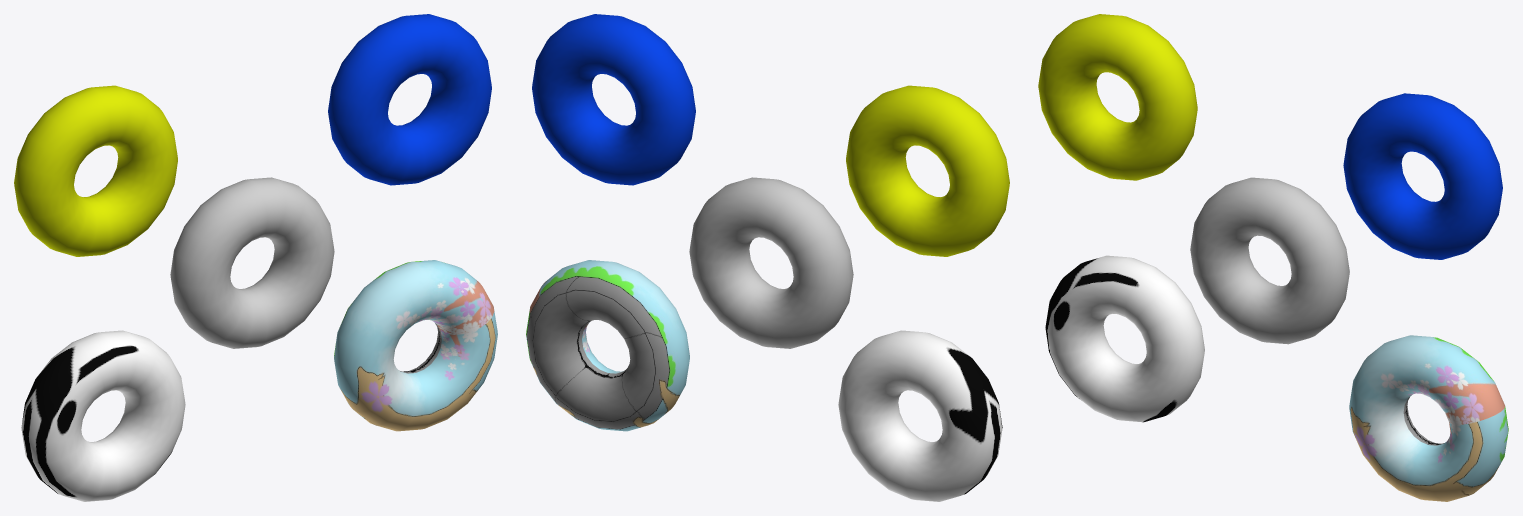
The model's file is Ball4.fbx.
The picture shows the model from 3 angles, left to right: view 1: azimuth 30°, elevation 25°; view 2: azimuth 150°, elevation 25°; view 3: azimuth 330°, elevation 25°; orthographic projection. The views are drawn at different scales.
Parts seen in each view (by area): view 1: pTorus7; view 2: pTorus7; view 3: pTorus7.
Boxes of the visible parts, left/top/right/bottom form: pTorus7: left=14, top=14, right=497, bottom=501; pTorus7: left=526, top=14, right=1009, bottom=501; pTorus7: left=1038, top=14, right=1508, bottom=501.
Bounding box in the file's own units: 9.13 × 7.63 × 1.
